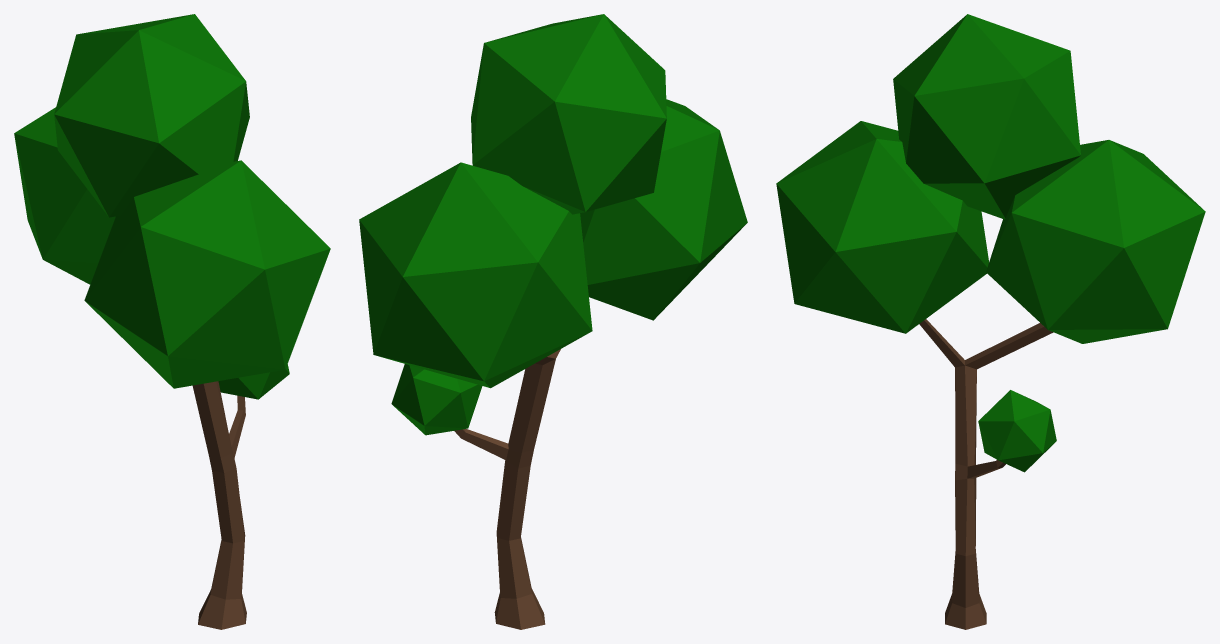
Rendered from Tree_sphere_2.fbx.
3 views of the same model, side by side, from view 1: azimuth 30°, elevation 25°; view 2: azimuth 150°, elevation 25°; view 3: azimuth 270°, elevation 25° (orthographic). The views are drawn at different scales.
Visible parts, largest first — view 1: SphereTreeV2; view 2: SphereTreeV2; view 3: SphereTreeV2.
Boxes of the visible parts, x1,y1,x2,y2 form: SphereTreeV2: [14, 14, 330, 629]; SphereTreeV2: [359, 14, 747, 629]; SphereTreeV2: [776, 14, 1205, 629].
Bounding box in the file's own units: 742 × 1787 × 1226.
